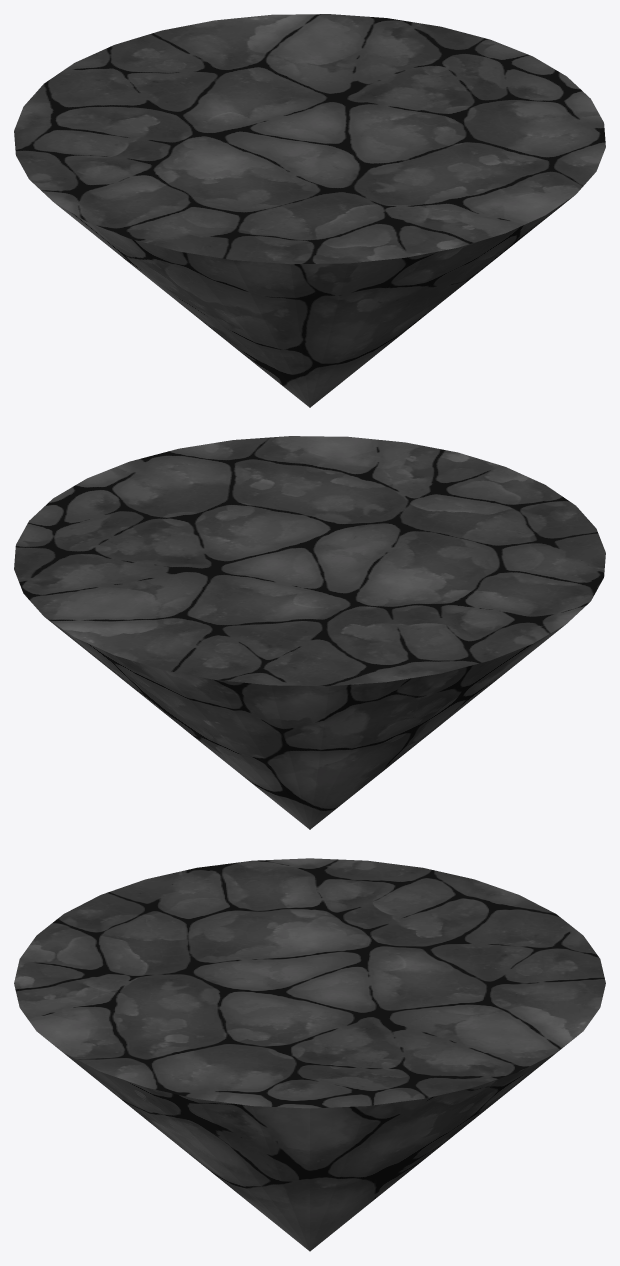
Rendered from ground.obj.
The picture shows the model from 3 angles, top to bottom: view 1: azimuth 30°, elevation 25°; view 2: azimuth 150°, elevation 25°; view 3: azimuth 270°, elevation 25°; orthographic projection.
Visible parts, largest first — view 1: 円錐; view 2: 円錐; view 3: 円錐.
Part boxes in pixels (x1=…): 円錐: x1=14, y1=14, x2=605, y2=407; 円錐: x1=14, y1=436, x2=605, y2=829; 円錐: x1=14, y1=858, x2=605, y2=1251.
Bounding box in the file's own units: 200 × 100 × 200.
1 material, 1 textured.
